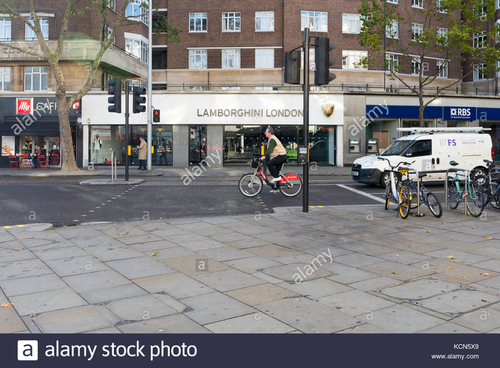bikerider: (231, 123, 317, 208)
